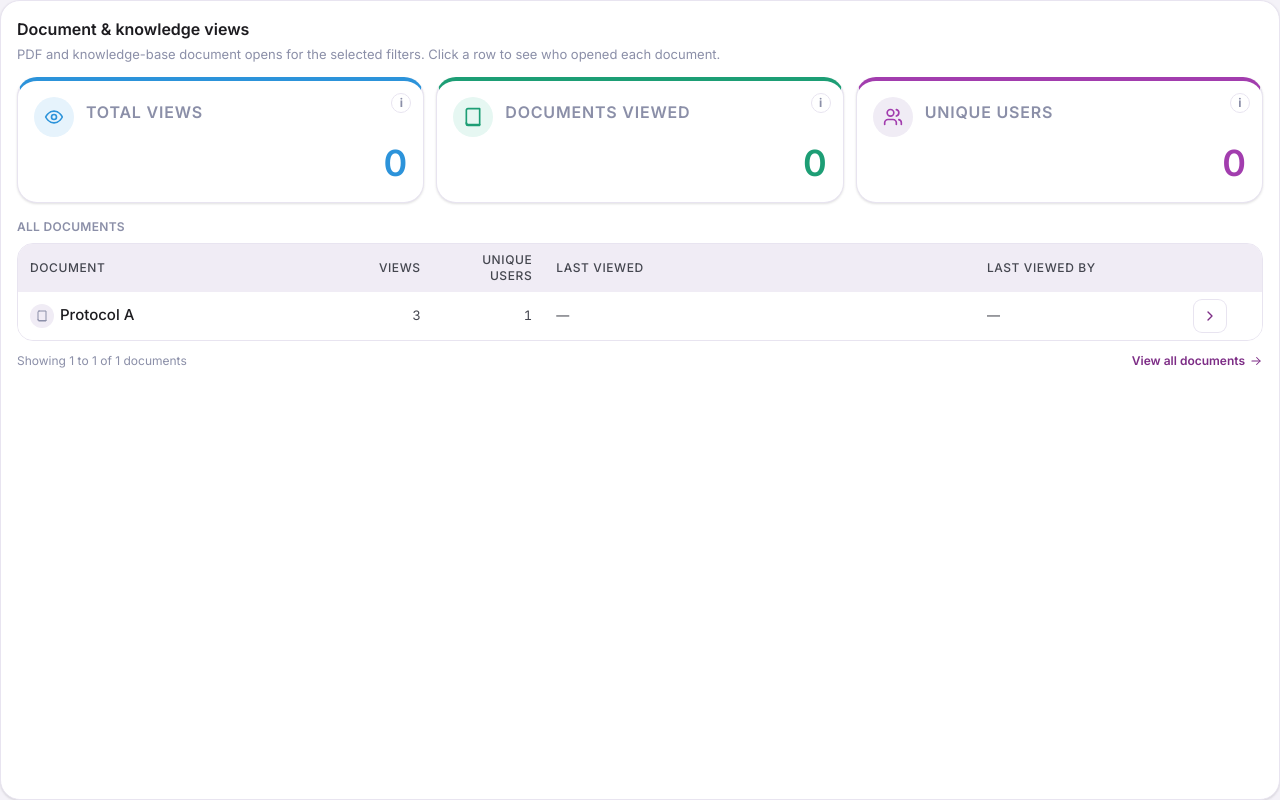
Scenario: DocumentUsageSection › keeps search mounted and only skeletons the table while searching
Click the button "View all documents" at (1197, 360), box [1132,352,1263,368]
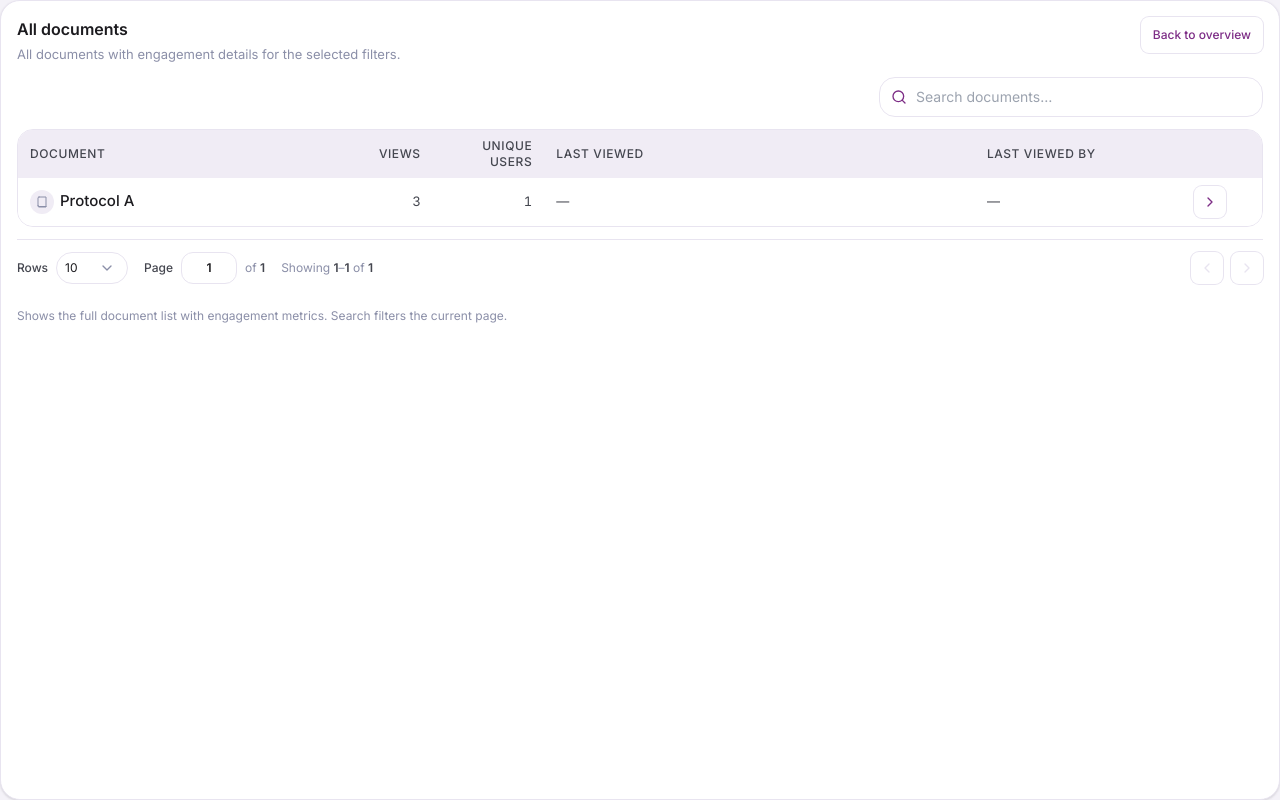
Expected: the text "Protocol A" is shown, [60,190,134,213]
Type "protocol" into the search field with placeholder "Search documents…" at (1071, 96), box [879,76,1263,116]
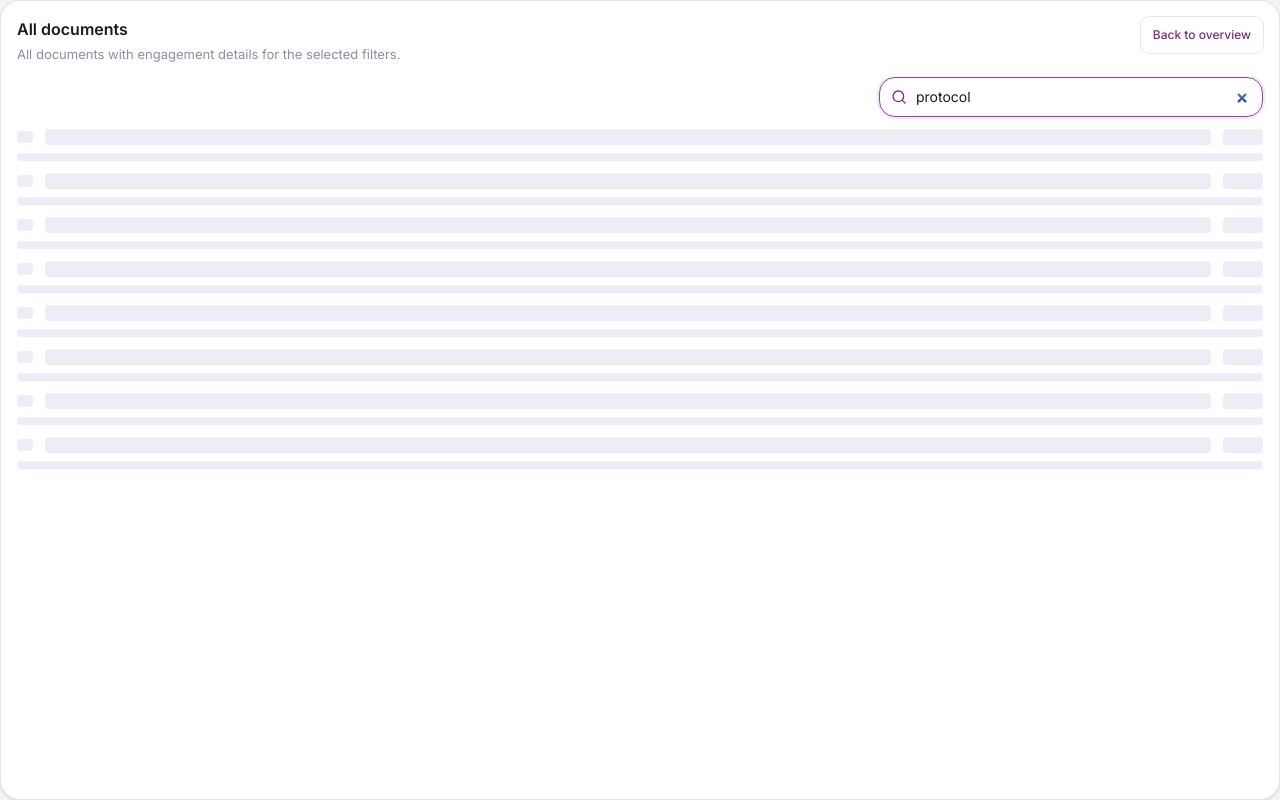
Expected: the text "Protocol A" is gone
